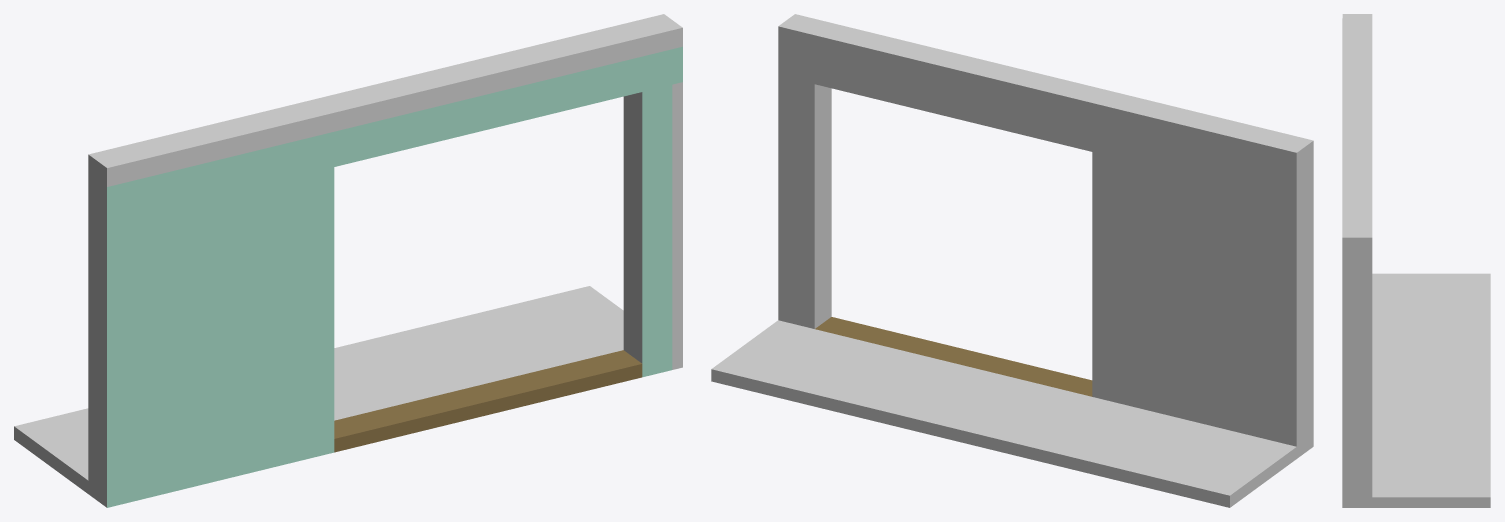
Rendered from FacadeLiving.fbx.
The picture shows the model from 3 angles, left to right: view 1: azimuth 30°, elevation 25°; view 2: azimuth 150°, elevation 25°; view 3: azimuth 270°, elevation 25°; orthographic projection. The views are drawn at different scales.
Parts seen in each view (by area): view 1: Flat.004; view 2: Flat.004; view 3: Flat.004.
Part boxes in pixels (box(x1,y1,x2,y2)): Flat.004: box(14, 14, 682, 507); Flat.004: box(711, 14, 1313, 507); Flat.004: box(1342, 14, 1490, 507).
Size of the model in its own units: 4432 by 2500 by 1240.
